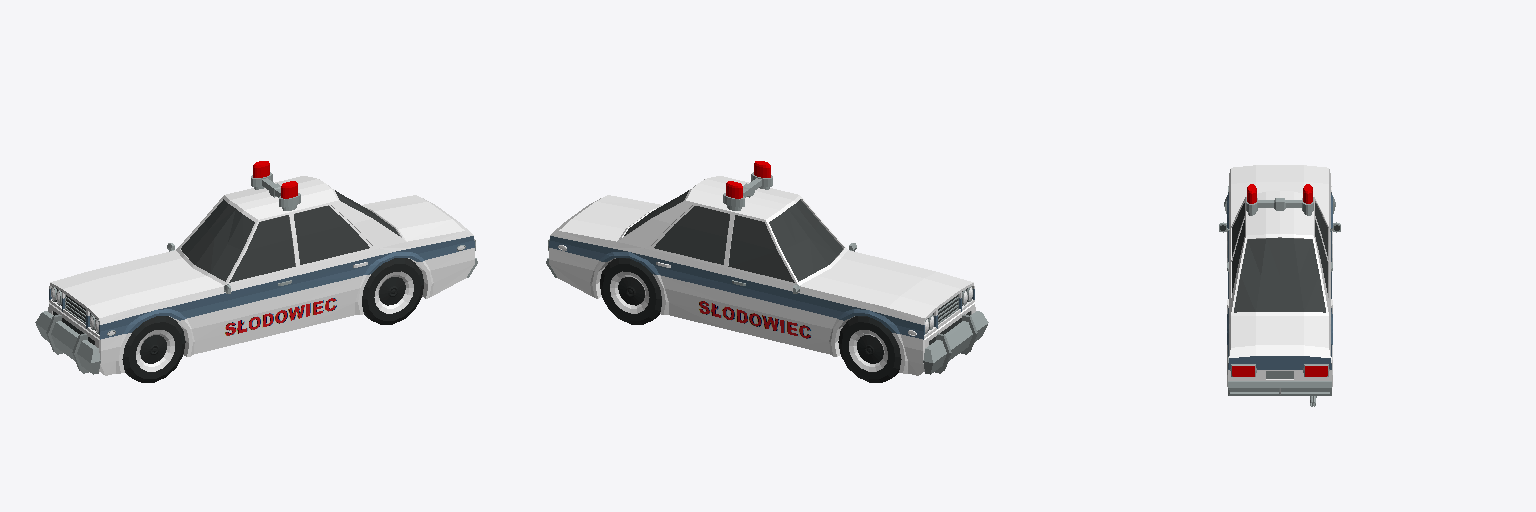
3 renders of one model, left to right at view 1: azimuth 30°, elevation 25°; view 2: azimuth 150°, elevation 25°; view 3: azimuth 270°, elevation 25°, orthographic.
Parts seen in each view (by area): view 1: car9_car9.006, whell.007_car9.002, whell.006_car9.003; view 2: car9_car9.006, whell.004_car9.005, whell.005_car9.004; view 3: car9_car9.006.
Part boxes in pixels (bbox=[...]): car9_car9.006: bbox=[35, 161, 477, 375]; whell.007_car9.002: bbox=[122, 316, 185, 382]; whell.006_car9.003: bbox=[362, 258, 423, 324]; car9_car9.006: bbox=[546, 161, 988, 375]; whell.004_car9.005: bbox=[838, 316, 901, 382]; whell.005_car9.004: bbox=[600, 258, 661, 324]; car9_car9.006: bbox=[1219, 165, 1340, 406].
Size of the model in its own units: 7.85 by 2.98 by 2.11.
1 materials, 1 textured.